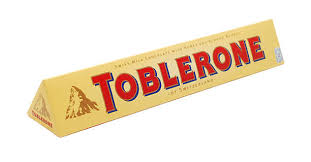Chocolate: (8, 11, 311, 145)
